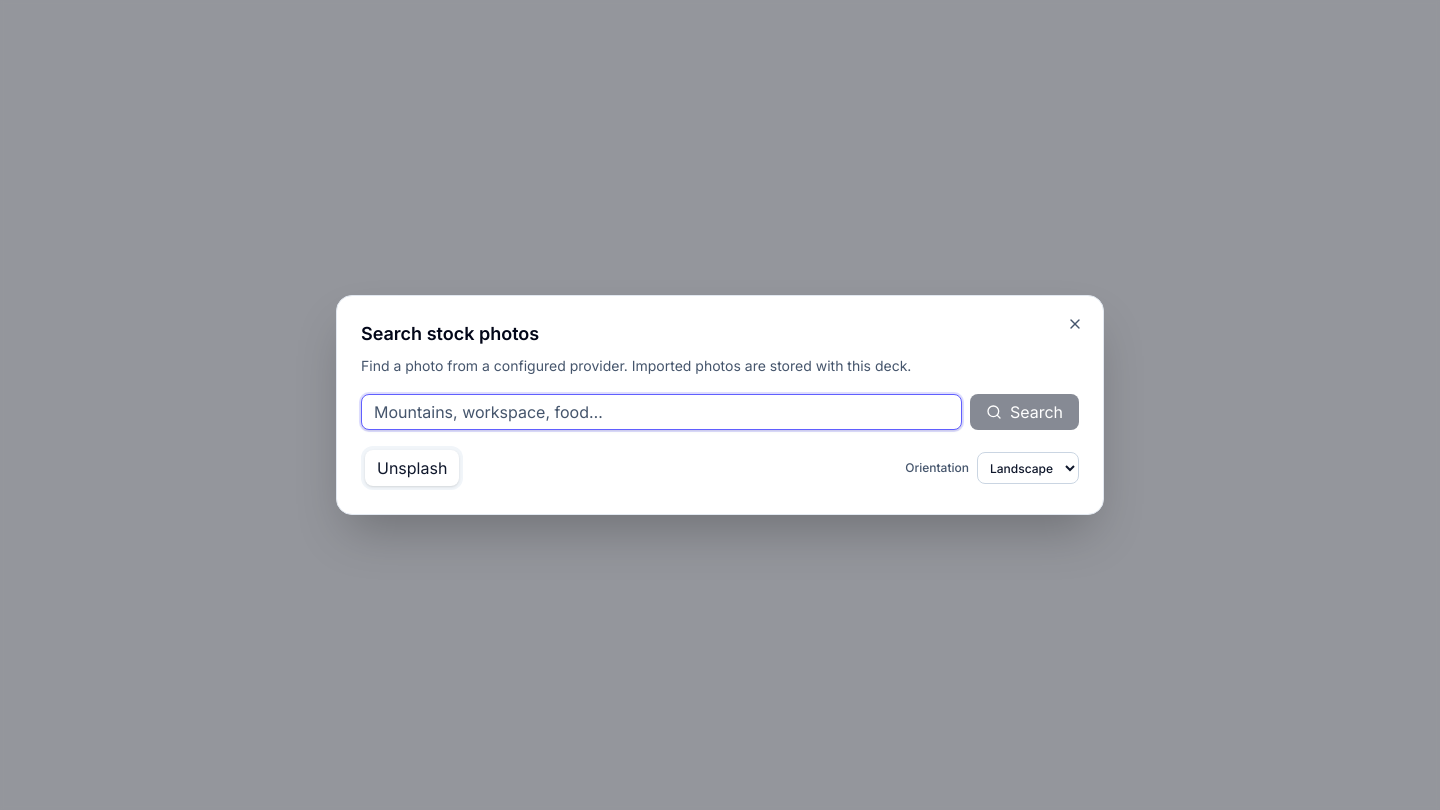
ImageSearchDialog › focuses the query, searches, and appends more results
The image size is (1440, 810).
Step 1. Type "mountain" into the field with test id "image-search-input" → coordinates (661, 412), box [361,394,962,430]
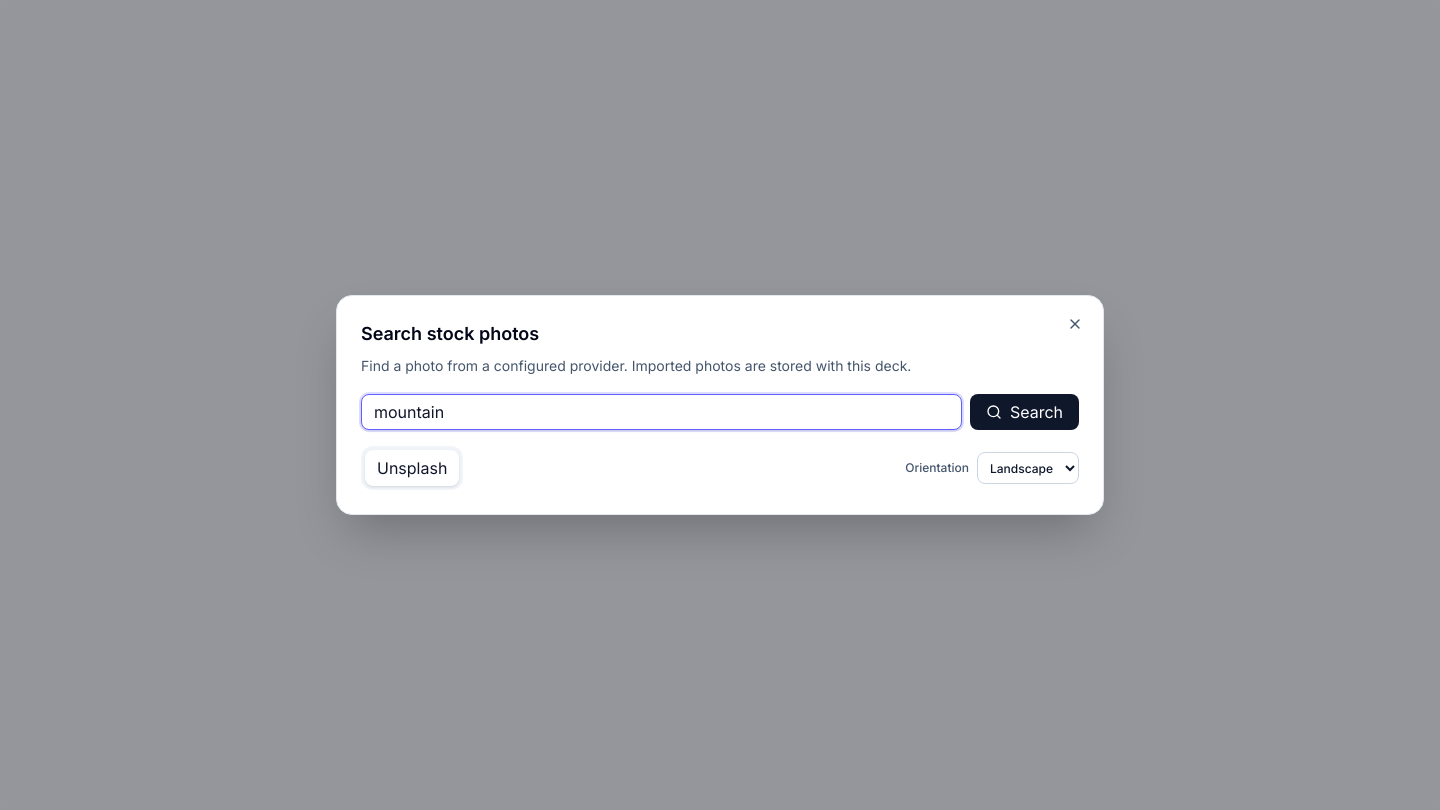
Step 2. Click the button with test id "image-search-submit" → coordinates (1024, 412), box [970,394,1079,430]
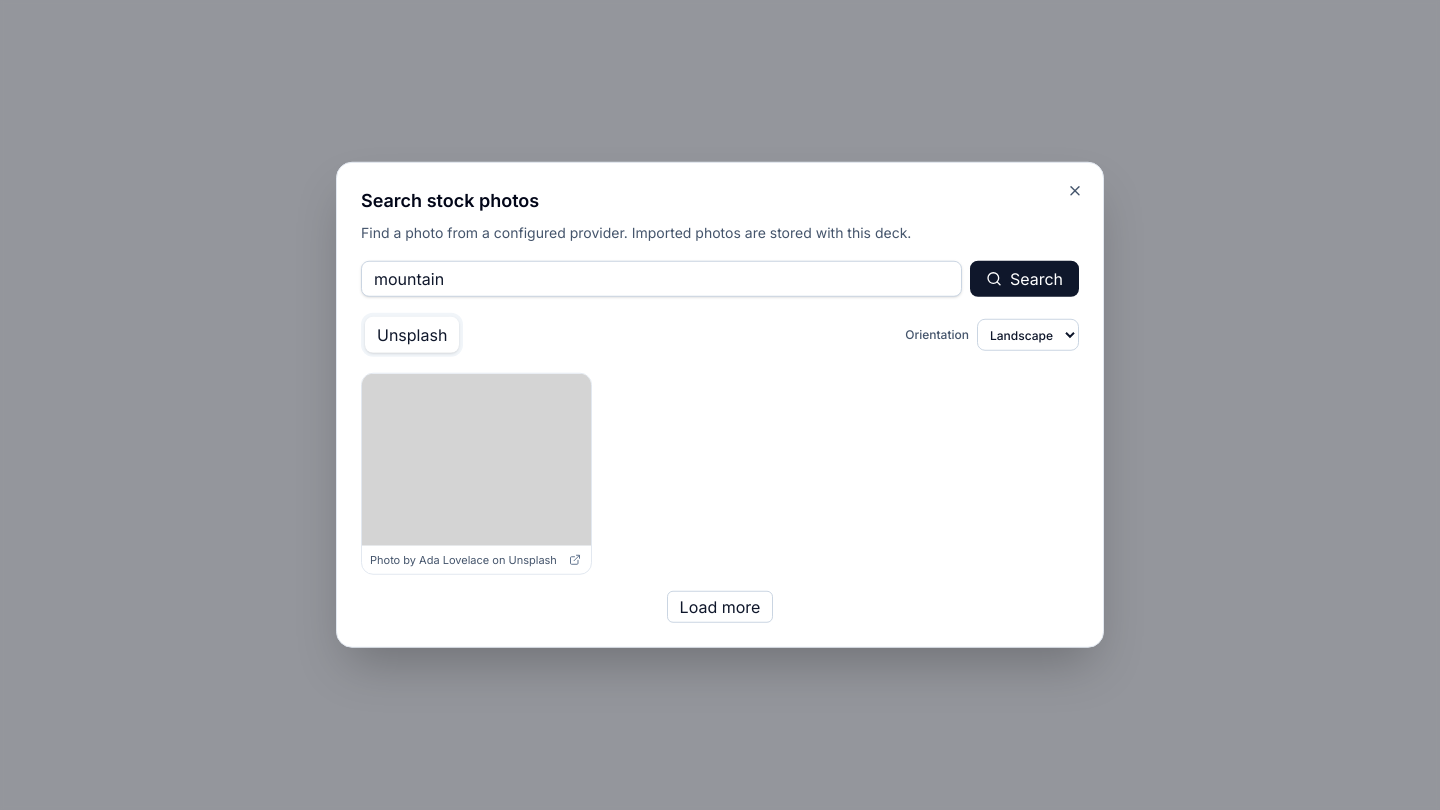
Expected: the element with test id "image-credit" reads "Photo by Ada Lovelace on Unsplash", [370,553,557,567]
Step 3. Click the button with test id "image-load-more" → coordinates (720, 607), box [667,591,773,623]
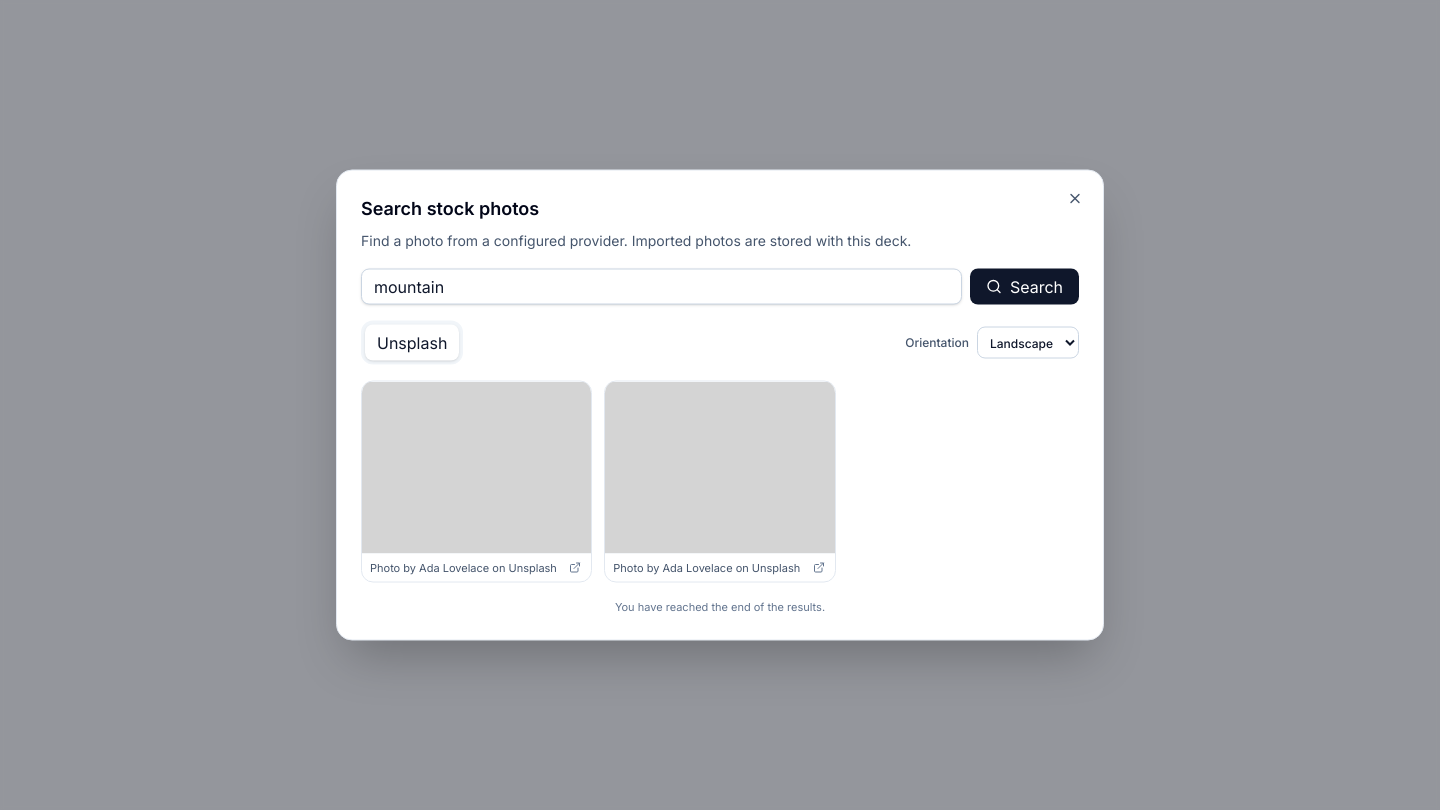
Expected: the text "You have reached the end of the results." is shown, [615,600,825,614]
